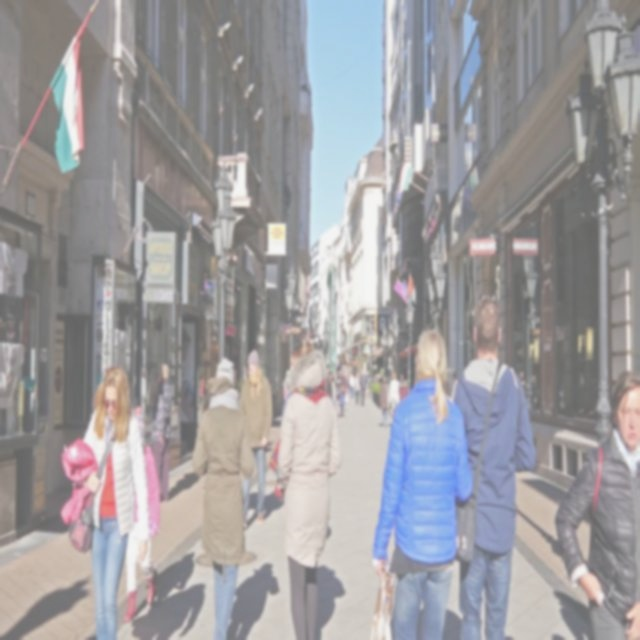pessoa: (368, 326, 474, 638), (442, 296, 536, 639), (554, 369, 640, 639), (277, 334, 343, 638), (81, 363, 152, 638), (190, 354, 256, 638), (122, 408, 160, 621), (130, 548, 208, 639), (238, 348, 274, 529), (0, 570, 91, 638), (224, 561, 280, 639), (150, 362, 173, 504), (311, 562, 345, 638), (160, 469, 200, 502), (512, 368, 540, 411), (379, 374, 392, 429), (396, 372, 409, 424), (388, 370, 401, 418), (139, 366, 148, 428), (336, 369, 354, 399), (360, 368, 370, 407), (334, 368, 342, 416), (240, 364, 248, 400), (338, 382, 346, 418), (353, 370, 361, 406), (329, 374, 336, 406), (348, 371, 356, 398), (326, 374, 333, 402), (328, 370, 332, 380)
